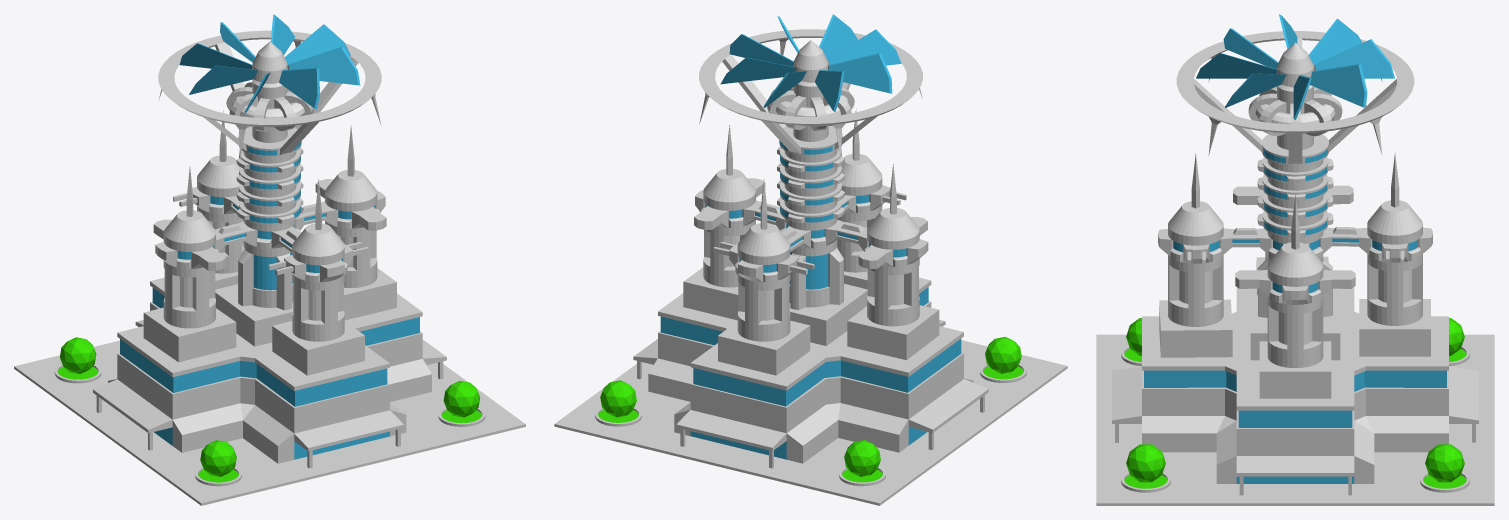
File: Chroma Skyscraper M.fbx
3 renders of one model, left to right at view 1: azimuth 30°, elevation 25°; view 2: azimuth 150°, elevation 25°; view 3: azimuth 270°, elevation 25°, orthographic. The views are drawn at different scales.
Visible parts, largest first — view 1: Torus, Ground, Cylinder; view 2: Torus, Ground, Cylinder; view 3: Torus, Ground, Cylinder.
Part boxes in pixels (<box>): Torus: <box>54,30,485,486</box>; Ground: <box>14,340,525,505</box>; Cylinder: <box>179,14,360,113</box>; Torus: <box>595,29,1026,486</box>; Ground: <box>554,340,1067,505</box>; Cylinder: <box>720,14,901,111</box>; Torus: <box>1112,31,1478,495</box>; Ground: <box>1096,334,1494,505</box>; Cylinder: <box>1196,14,1394,120</box>.
Size of the model in its own units: 2000 by 2100 by 2000.
